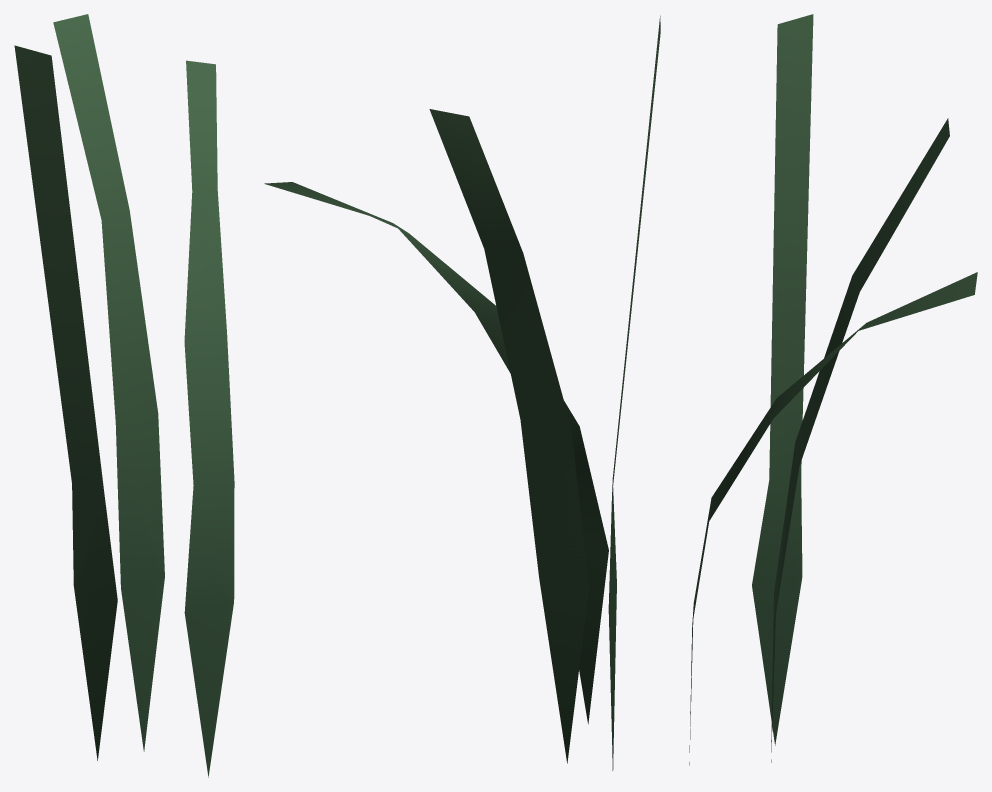
Rendered from trees-grasses-tall-grass_v5.glb.
The picture shows the model from 3 angles, left to right: view 1: azimuth 30°, elevation 25°; view 2: azimuth 150°, elevation 25°; view 3: azimuth 270°, elevation 25°; orthographic projection. The views are drawn at different scales.
Visible parts, largest first — view 1: Tall Grass_v5; view 2: Tall Grass_v5; view 3: Tall Grass_v5.
Boxes of the visible parts, box(x1,y1,x2,y2) form: Tall Grass_v5: box(14, 14, 234, 777); Tall Grass_v5: box(264, 15, 660, 770); Tall Grass_v5: box(689, 14, 977, 765).
Size of the model in its own units: 0.207 by 0.5 by 0.1864.
